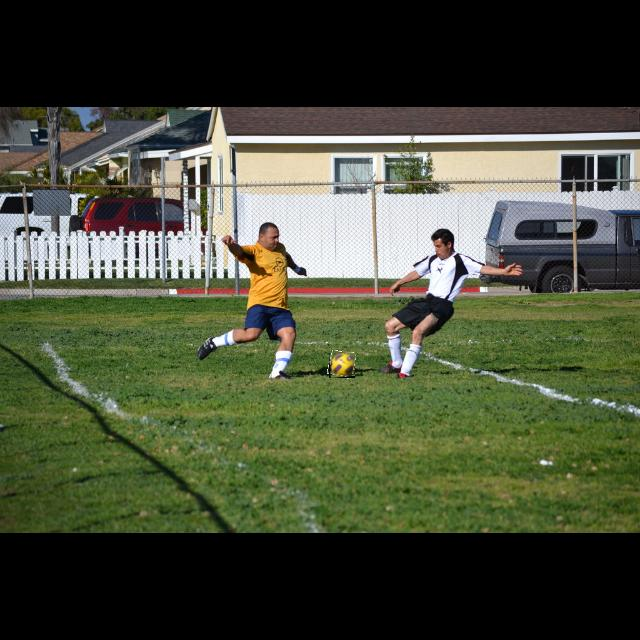Football: (329, 352, 355, 378)
